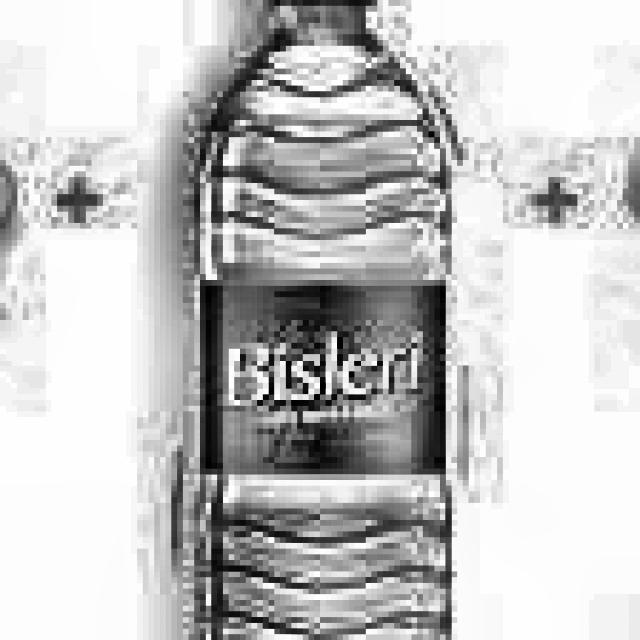bottle: (166, 0, 465, 640)
